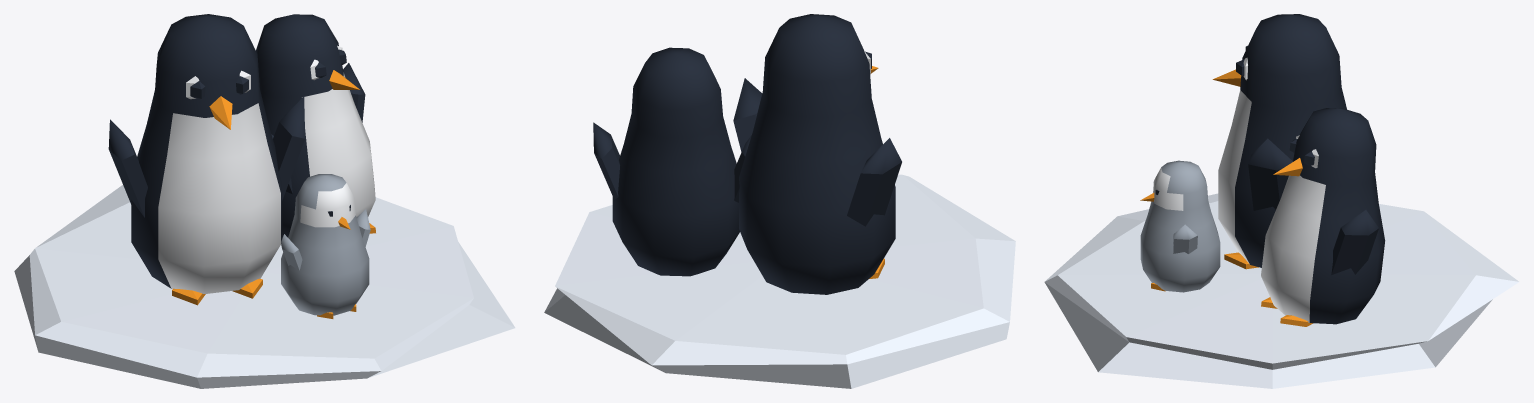
The model's file is penguin_group.glb.
The picture shows the model from 3 angles, left to right: view 1: azimuth 30°, elevation 25°; view 2: azimuth 150°, elevation 25°; view 3: azimuth 270°, elevation 25°; orthographic projection. The views are drawn at different scales.
Visible parts, largest first — view 1: penguin_group; view 2: penguin_group; view 3: penguin_group.
Boxes of the visible parts, left/top/right/bottom form: penguin_group: left=14, top=14, right=515, bottom=388; penguin_group: left=544, top=14, right=1015, bottom=388; penguin_group: left=1044, top=14, right=1518, bottom=388.
Bounding box in the file's own units: 1.23 × 0.79 × 1.29.
